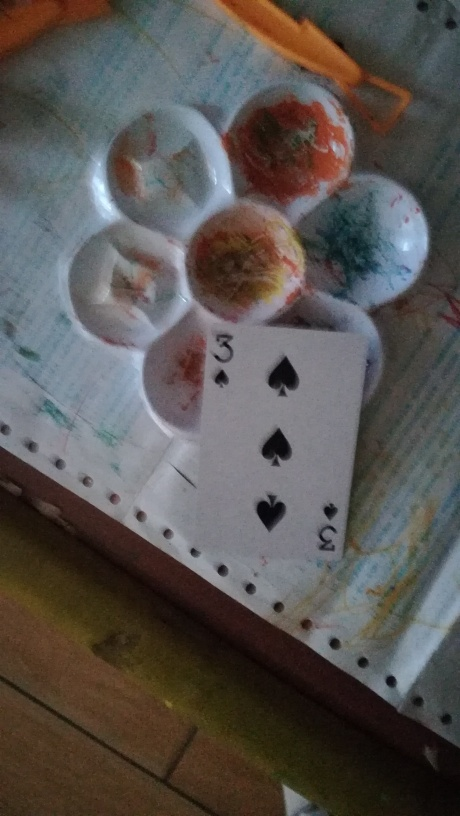ht 3: (196, 324, 373, 566)
